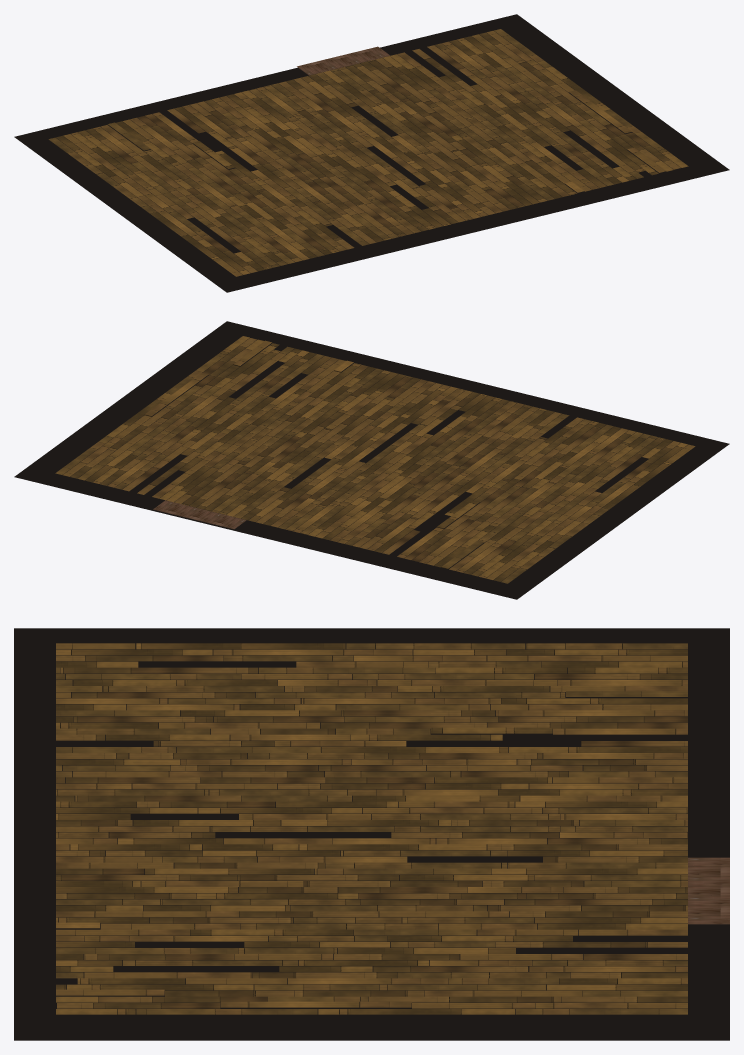
Rendered from Floor.obj.
3 renders of one model, top to bottom at view 1: azimuth 30°, elevation 25°; view 2: azimuth 150°, elevation 25°; view 3: azimuth 270°, elevation 25°, orthographic. The views are drawn at different scales.
Parts seen in each view (by area): view 1: planks, base, threshold; view 2: planks, base, threshold; view 3: planks, base, threshold.
Part boxes in pixels (<box>): planks: <box>48,29,688,276</box>; base: <box>14,14,729,292</box>; threshold: <box>297,46,389,75</box>; planks: <box>55,336,695,583</box>; base: <box>14,321,729,599</box>; threshold: <box>153,500,246,529</box>; planks: <box>56,643,687,1014</box>; base: <box>14,628,729,1040</box>; threshold: <box>688,857,729,924</box>.
Size of the model in its own units: 10.5 by 0.042 by 7.7.
3 materials, 2 textured.
